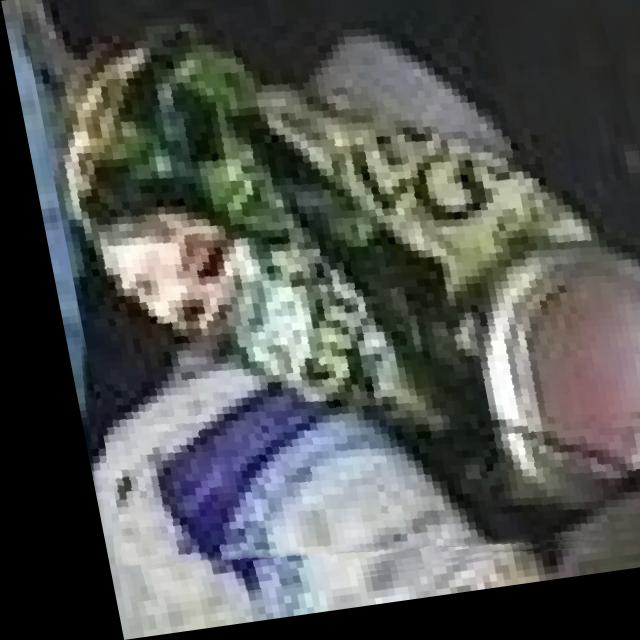can: (45, 0, 640, 554)
